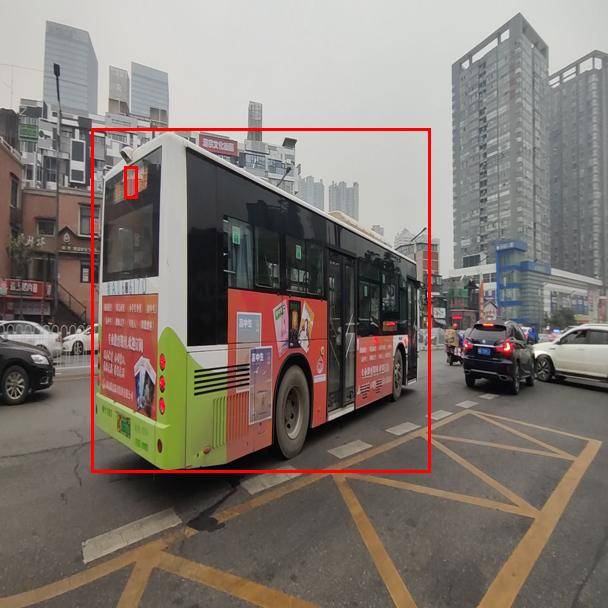bus: (91, 128, 430, 472)
screen: (124, 166, 137, 198)
